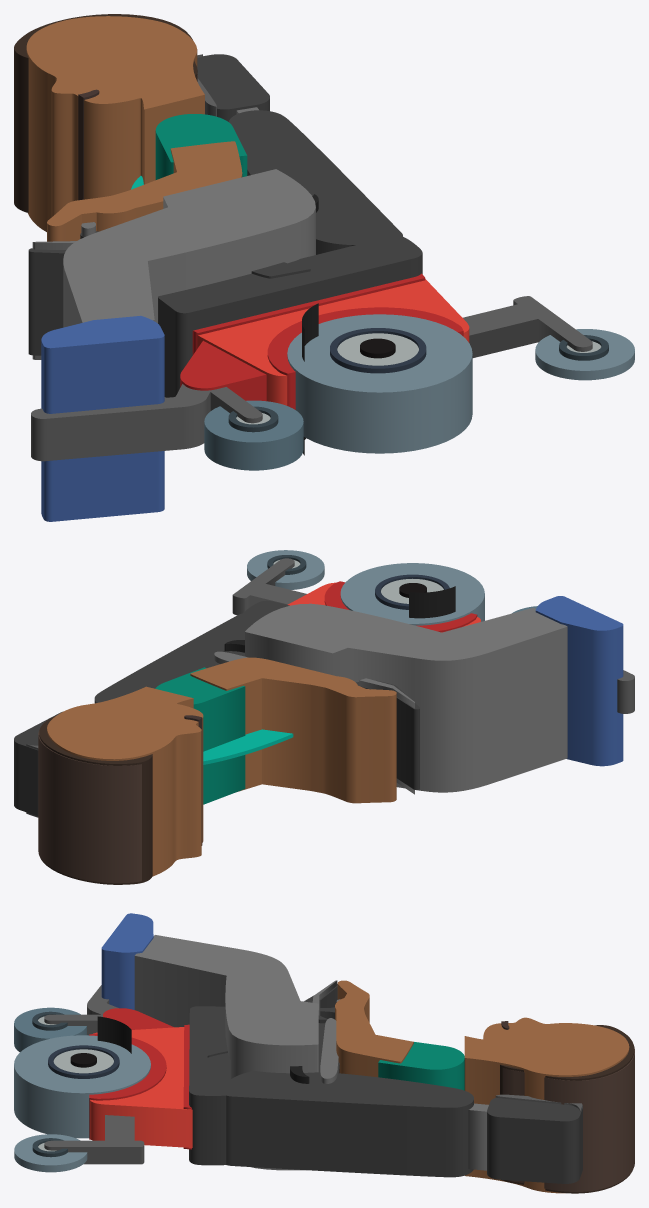
The model's file is emoji_u1f468_1f3fe_200d_1f9bc.glb.
3 renders of one model, top to bottom at view 1: azimuth 30°, elevation 25°; view 2: azimuth 150°, elevation 25°; view 3: azimuth 270°, elevation 25°, orthographic. The views are drawn at different scales.
Parts seen in each view (by area): view 1: emoji_u1f468_1f3fe_200d_1f9bc; view 2: emoji_u1f468_1f3fe_200d_1f9bc; view 3: emoji_u1f468_1f3fe_200d_1f9bc.
Boxes of the visible parts, bbox=[...] form: emoji_u1f468_1f3fe_200d_1f9bc: bbox=[14, 14, 634, 521]; emoji_u1f468_1f3fe_200d_1f9bc: bbox=[14, 550, 634, 884]; emoji_u1f468_1f3fe_200d_1f9bc: bbox=[14, 913, 634, 1193].
Bounding box in the file's own units: 0.0242 × 0.0074 × 0.0324.
